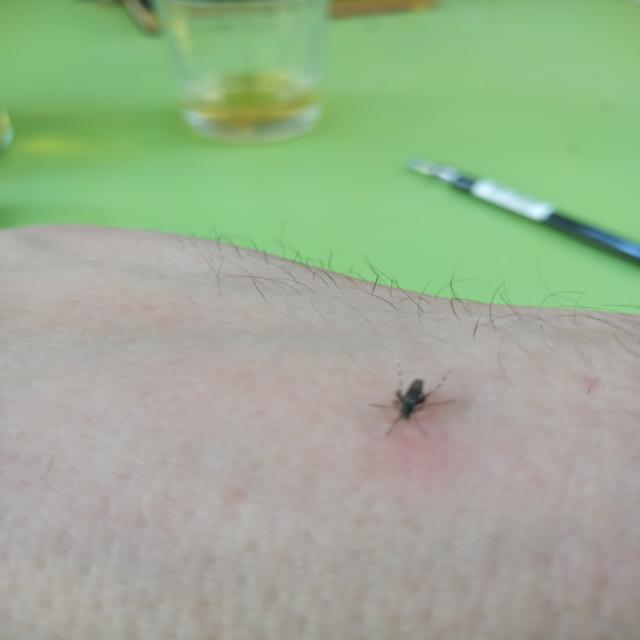albopictus: (360, 366, 461, 439)
